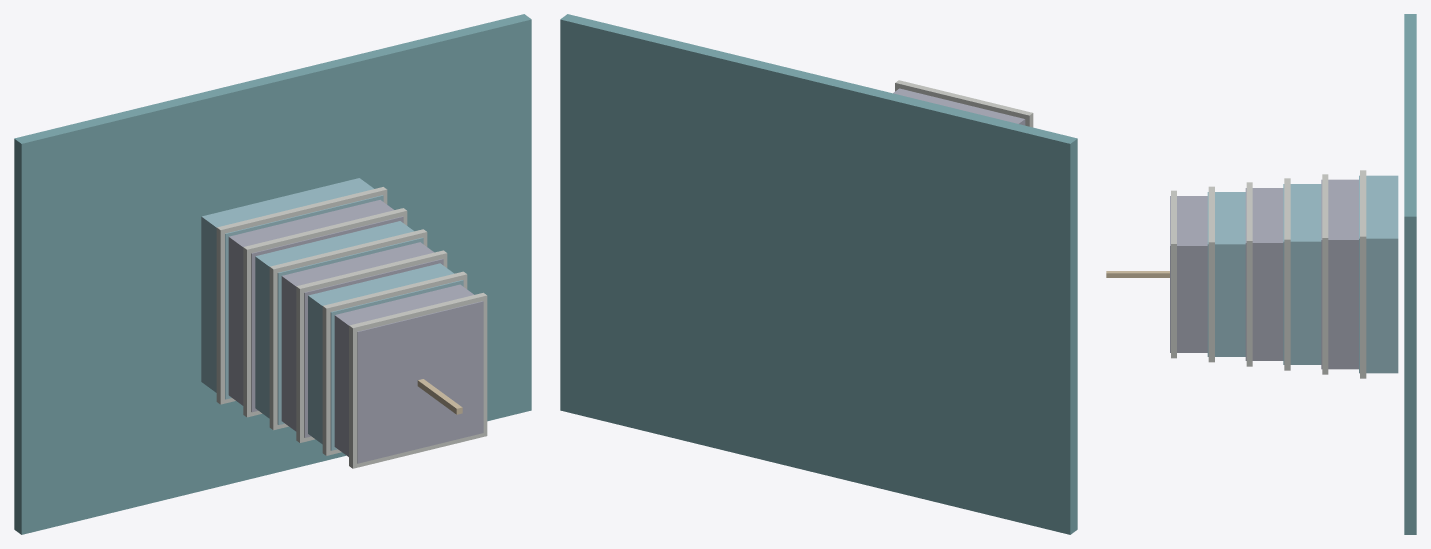
The picture shows the model from 3 angles, left to right: view 1: azimuth 30°, elevation 25°; view 2: azimuth 150°, elevation 25°; view 3: azimuth 270°, elevation 25°; orthographic projection. The views are drawn at different scales.
Parts seen in each view (by area): view 1: section_00, section_11, section_01, section_03, section_05, section_07, section_09, section_12, section_02, section_04, section_06, section_08 (+1 smaller); view 2: section_00, section_12, section_11; view 3: section_00, section_01, section_03, section_05, section_07, section_09, section_11, section_02, section_04, section_06, section_08, section_10 (+2 smaller).
Boxes of the visible parts, x1,y1,x2,y2 form: section_00: [14, 14, 531, 534]; section_11: [334, 284, 483, 463]; section_01: [201, 178, 383, 399]; section_03: [228, 200, 403, 412]; section_05: [255, 221, 423, 424]; section_07: [281, 242, 443, 437]; section_09: [308, 263, 463, 450]; section_12: [349, 292, 487, 468]; section_02: [216, 187, 387, 404]; section_04: [243, 208, 407, 417]; section_06: [269, 229, 427, 430]; section_08: [296, 250, 447, 442]; section_00: [560, 14, 1077, 534]; section_12: [895, 80, 1033, 127]; section_11: [893, 88, 1025, 125]; section_00: [1404, 14, 1416, 534]; section_01: [1359, 175, 1398, 373]; section_03: [1321, 179, 1358, 369]; section_05: [1283, 184, 1321, 364]; section_07: [1245, 188, 1283, 360]; section_09: [1207, 192, 1245, 356]; section_11: [1170, 196, 1207, 352]; section_02: [1360, 170, 1366, 378]; section_04: [1322, 174, 1328, 374]; section_06: [1284, 178, 1290, 370]; section_08: [1246, 182, 1252, 366]; section_10: [1208, 186, 1214, 362].
Size of the model in its own units: 7.1 by 5.2 by 4.59.
